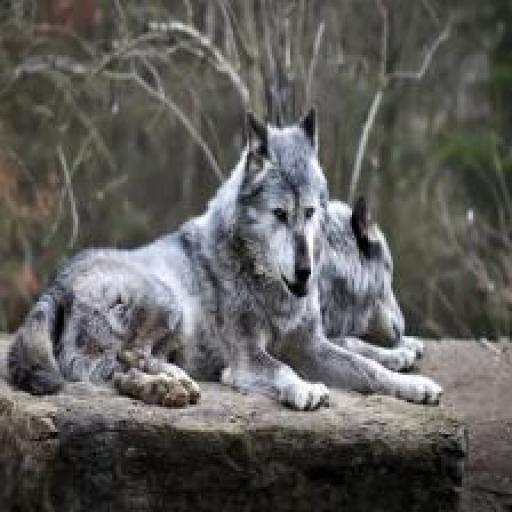wolf: (0, 102, 451, 466)
